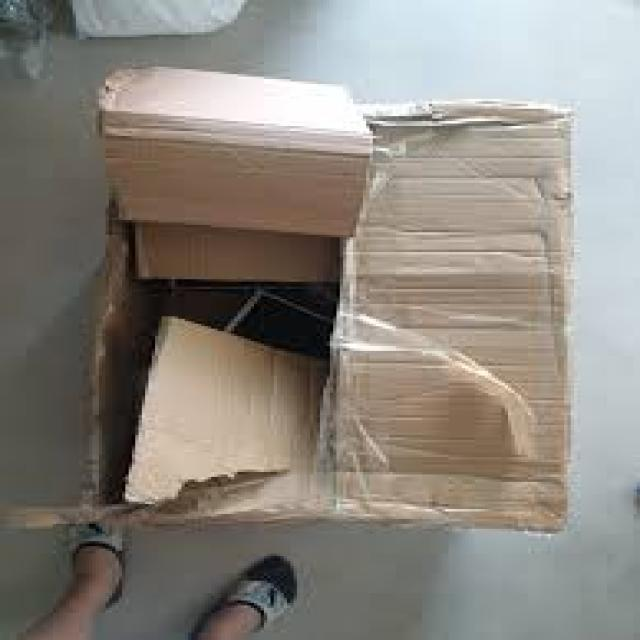box: (95, 100, 581, 525)
tear: (86, 60, 374, 519)
